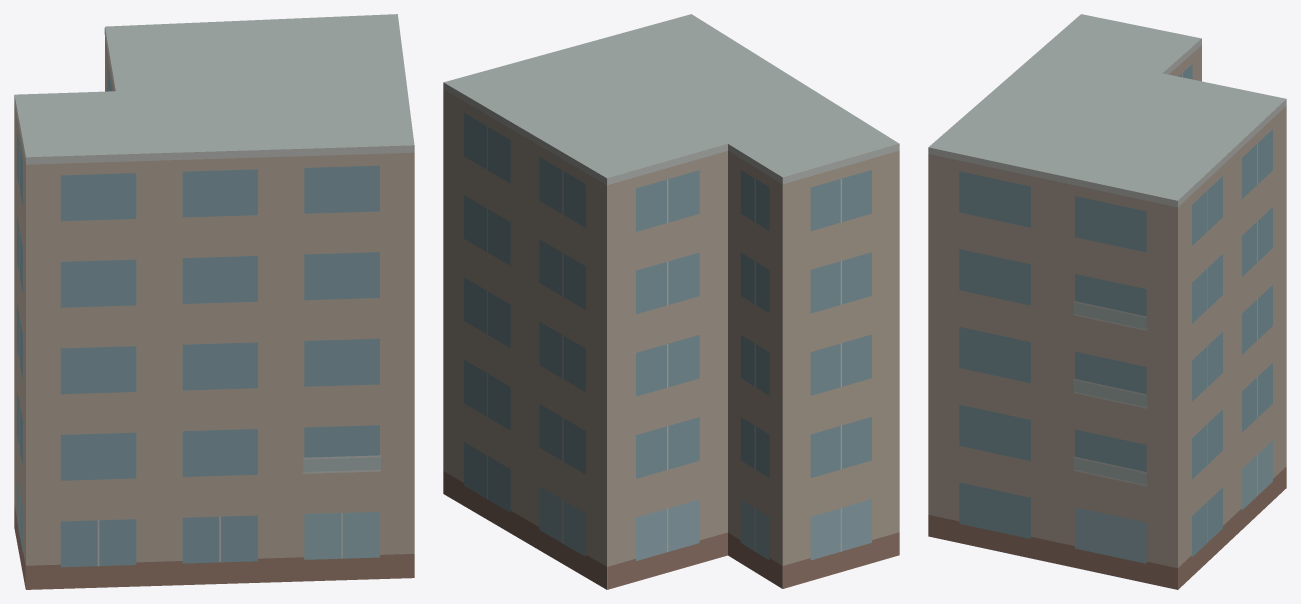
The model's file is survey-upis-32892426.glb.
The picture shows the model from 3 angles, left to right: view 1: azimuth 30°, elevation 25°; view 2: azimuth 150°, elevation 25°; view 3: azimuth 270°, elevation 25°; orthographic projection. The views are drawn at different scales.
Parts seen in each view (by area): view 1: survey-upis-32892426.tmp; view 2: survey-upis-32892426.tmp; view 3: survey-upis-32892426.tmp.
Boxes of the visible parts, x1,y1,x2,y2 form: survey-upis-32892426.tmp: (14, 14, 414, 589); survey-upis-32892426.tmp: (443, 14, 899, 589); survey-upis-32892426.tmp: (928, 14, 1286, 589).
Size of the model in its own units: 14.84 by 14.4 by 12.03.
